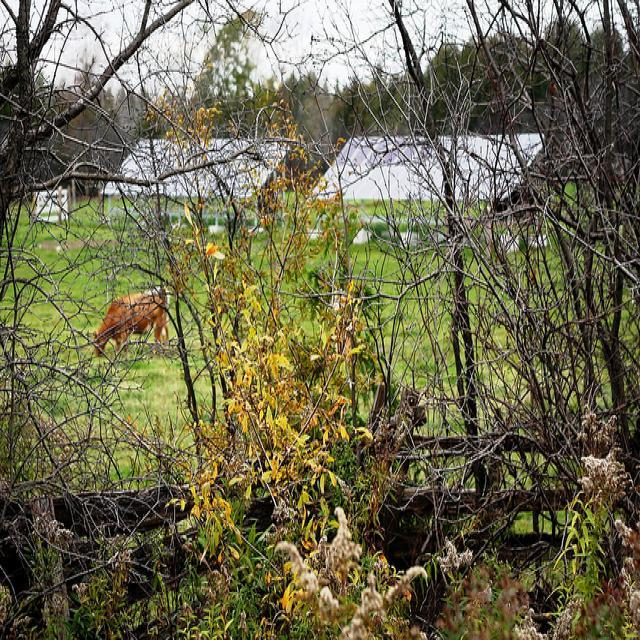cow: (91, 280, 170, 354)
